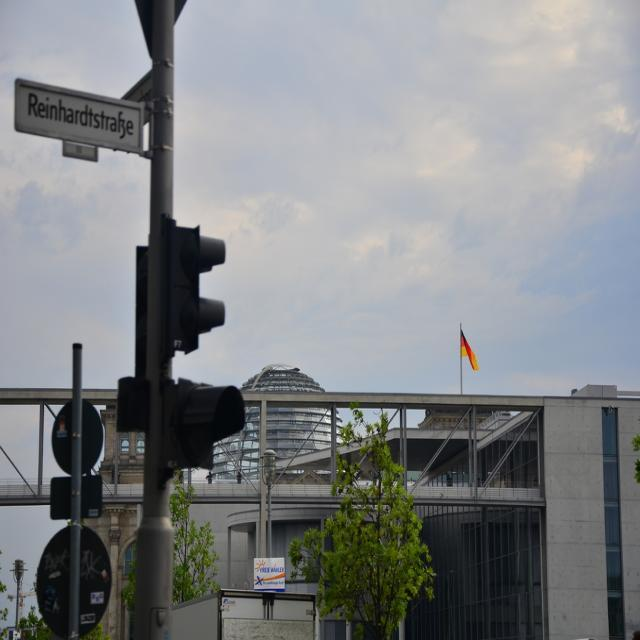off traffic light: (169, 221, 225, 355)
